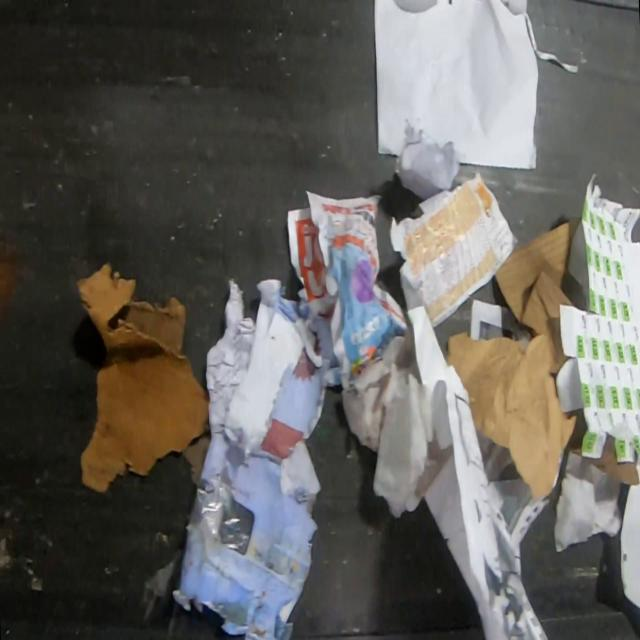cardboard: (74, 260, 211, 496), (493, 218, 577, 375), (587, 432, 638, 486), (566, 409, 587, 455)
soft_plastic: (184, 474, 254, 564)
